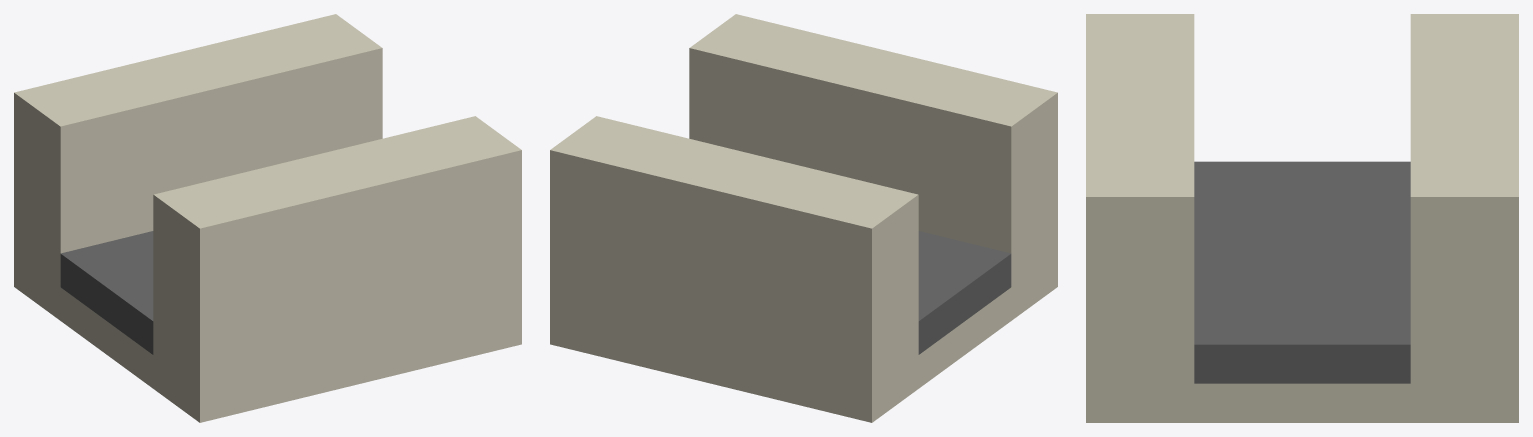
The model's file is tile039.fbx.
3 views of the same model, side by side, from view 1: azimuth 30°, elevation 25°; view 2: azimuth 150°, elevation 25°; view 3: azimuth 270°, elevation 25° (orthographic). The views are drawn at different scales.
Visible parts, largest first — view 1: tile039; view 2: tile039; view 3: tile039.
Boxes of the visible parts, bbox=[...] form: tile039: bbox=[14, 14, 521, 422]; tile039: bbox=[550, 14, 1057, 422]; tile039: bbox=[1086, 14, 1518, 422].
Bounding box in the file's own units: 10 × 5.77 × 10.
